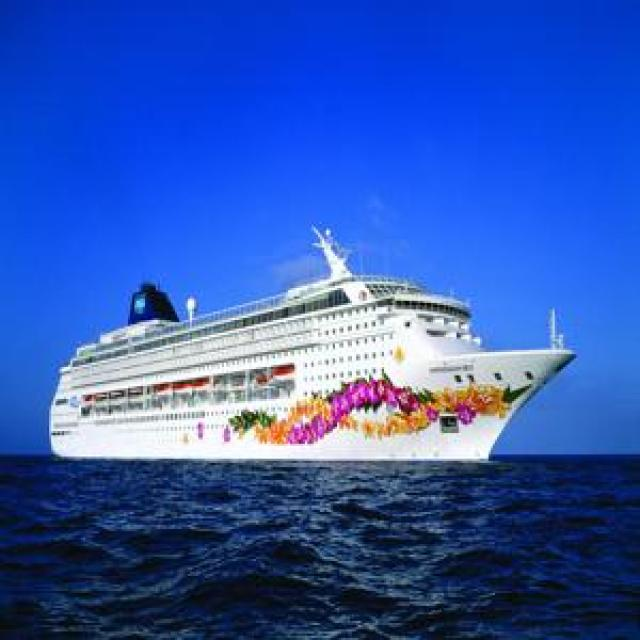passenger ship: (45, 214, 575, 466)
